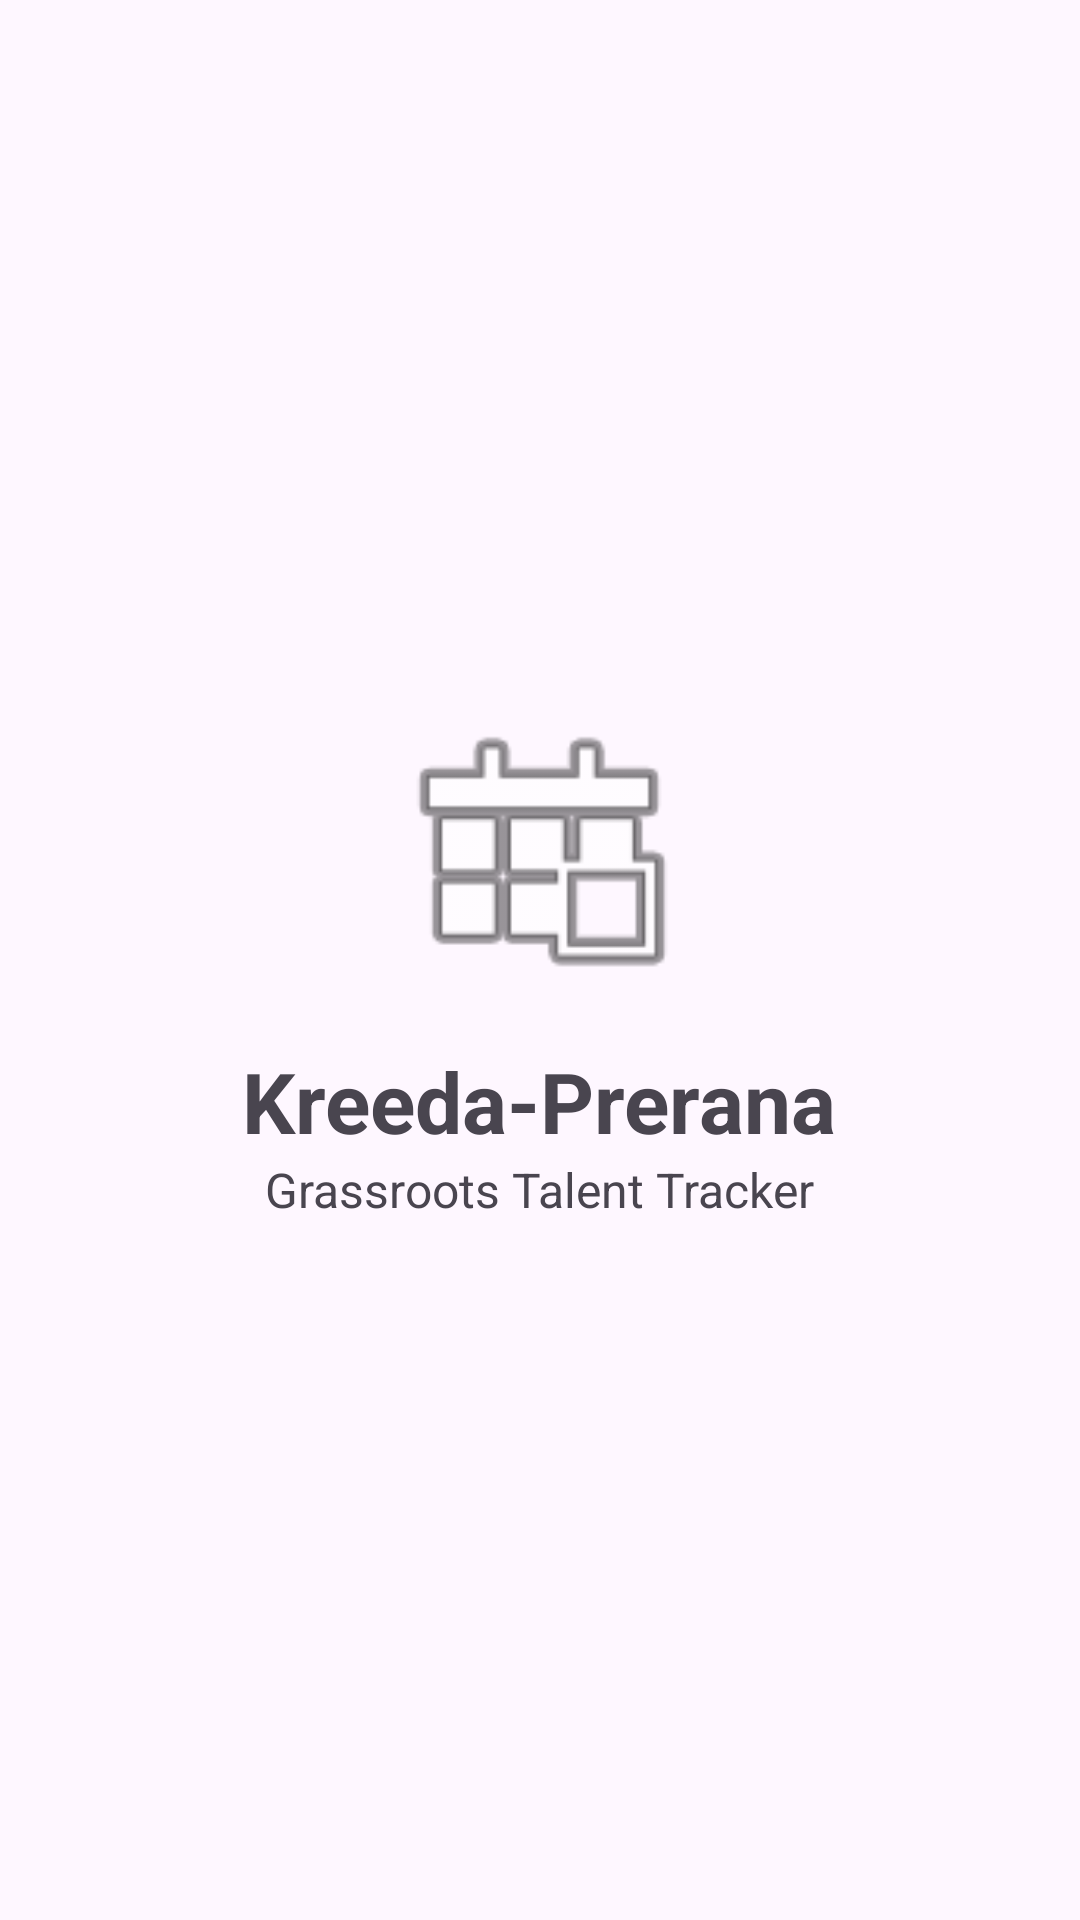

Locate icon controls on the screen. Image size 1080*1920, boxes as detection(x1, y1, x2, y2).
today: detection(419, 737, 665, 966)
